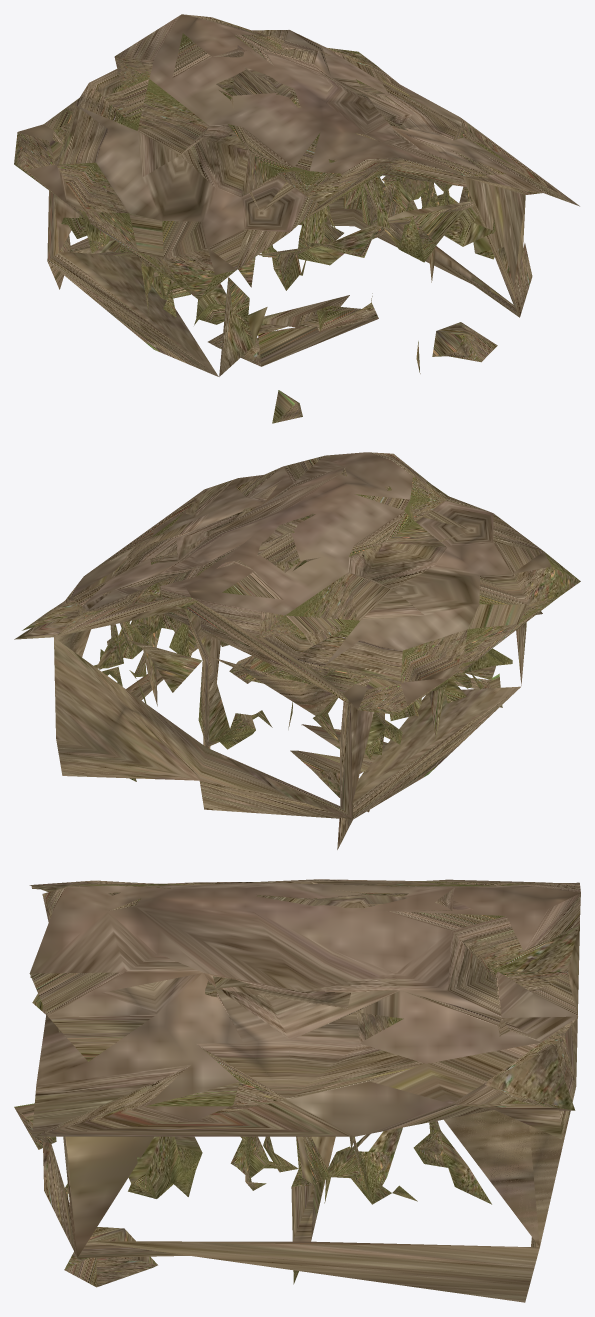
Rendered from bq_incense.lod2.glb.
The picture shows the model from 3 angles, top to bottom: view 1: azimuth 30°, elevation 25°; view 2: azimuth 150°, elevation 25°; view 3: azimuth 270°, elevation 25°; orthographic projection. The views are drawn at different scales.
Visible parts, largest first — view 1: mesh_node; view 2: mesh_node; view 3: mesh_node.
Boxes of the visible parts, x1=… form: mesh_node: x1=14, y1=14, x2=579, y2=423; mesh_node: x1=14, y1=452, x2=580, y2=849; mesh_node: x1=14, y1=879, x2=580, y2=1302.
Size of the model in its own units: 1.88 by 1.09 by 1.81.
Materials: 1 (1 with a texture image).
